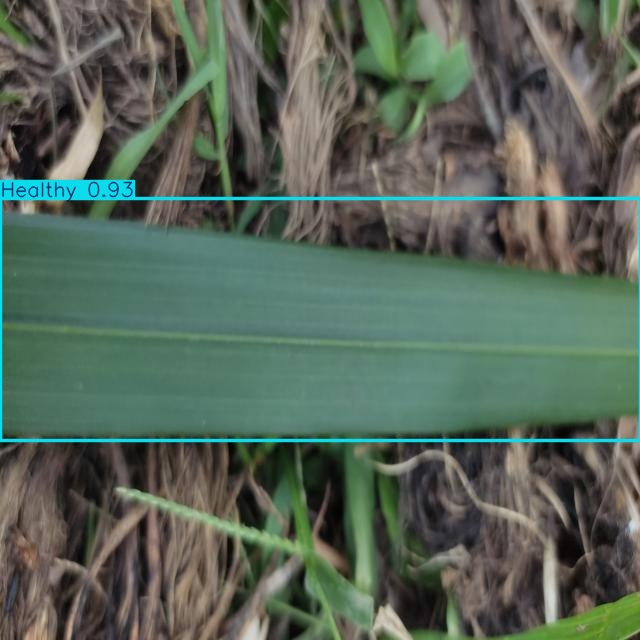Healthy: (0, 198, 640, 441)
